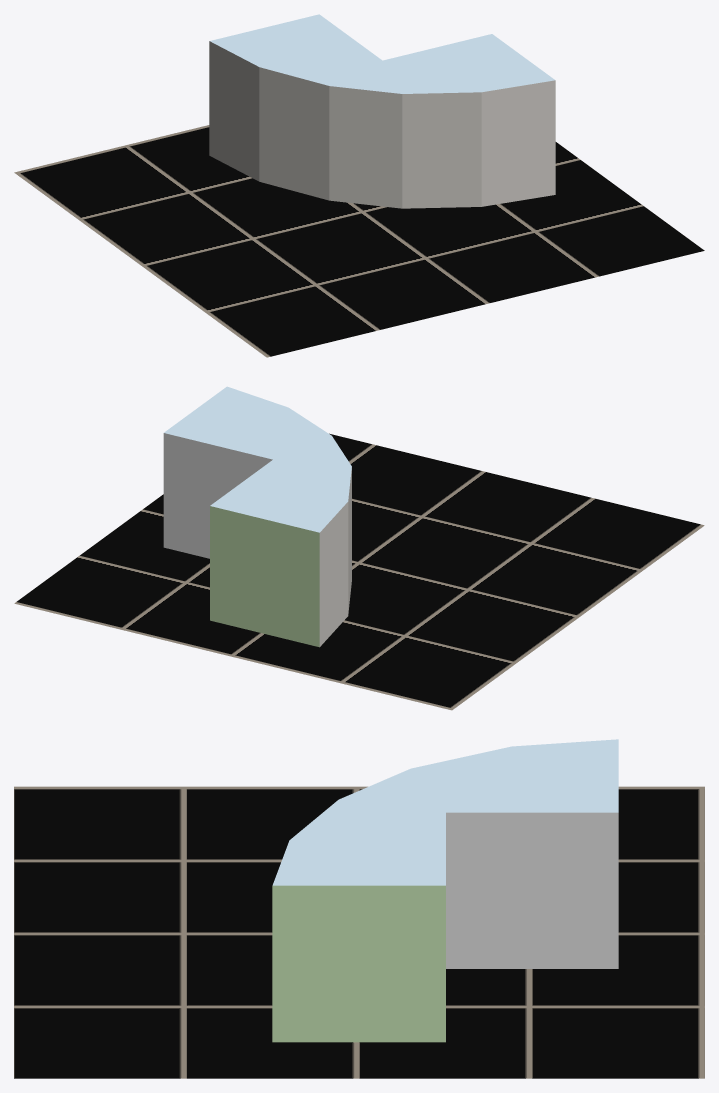
The model's file is Wall_Curve_Outer_3x3_Mid.glb.
The picture shows the model from 3 angles, top to bottom: view 1: azimuth 30°, elevation 25°; view 2: azimuth 150°, elevation 25°; view 3: azimuth 270°, elevation 25°; orthographic projection. The views are drawn at different scales.
Visible parts, largest first — view 1: Floor, Wall_Curve_Outer_3x3_Mid; view 2: Floor, Wall_Curve_Outer_3x3_Mid; view 3: Floor, Wall_Curve_Outer_3x3_Mid.
Boxes of the visible parts, x1,y1,x2,y2 form: Floor: (14, 125, 704, 357); Wall_Curve_Outer_3x3_Mid: (209, 14, 555, 208); Floor: (14, 433, 704, 710); Wall_Curve_Outer_3x3_Mid: (163, 386, 351, 647); Floor: (14, 786, 704, 1078); Wall_Curve_Outer_3x3_Mid: (272, 739, 618, 1042).
Size of the model in its own units: 400 by 100 by 400.
5 materials, 1 textured.
